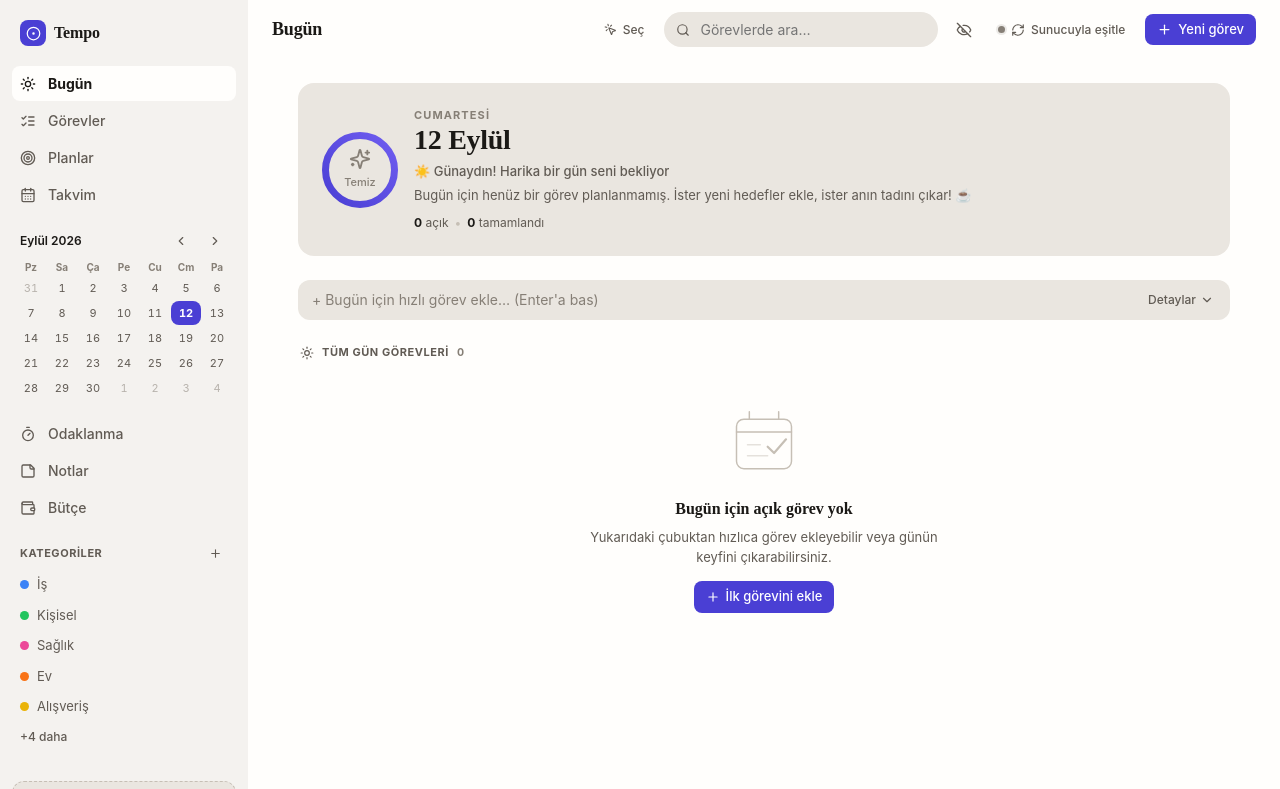
the budget page › puts the standing bills on their own tab, after the statements
Click the button "Bütçe": (124,508) [12,490,236,525]
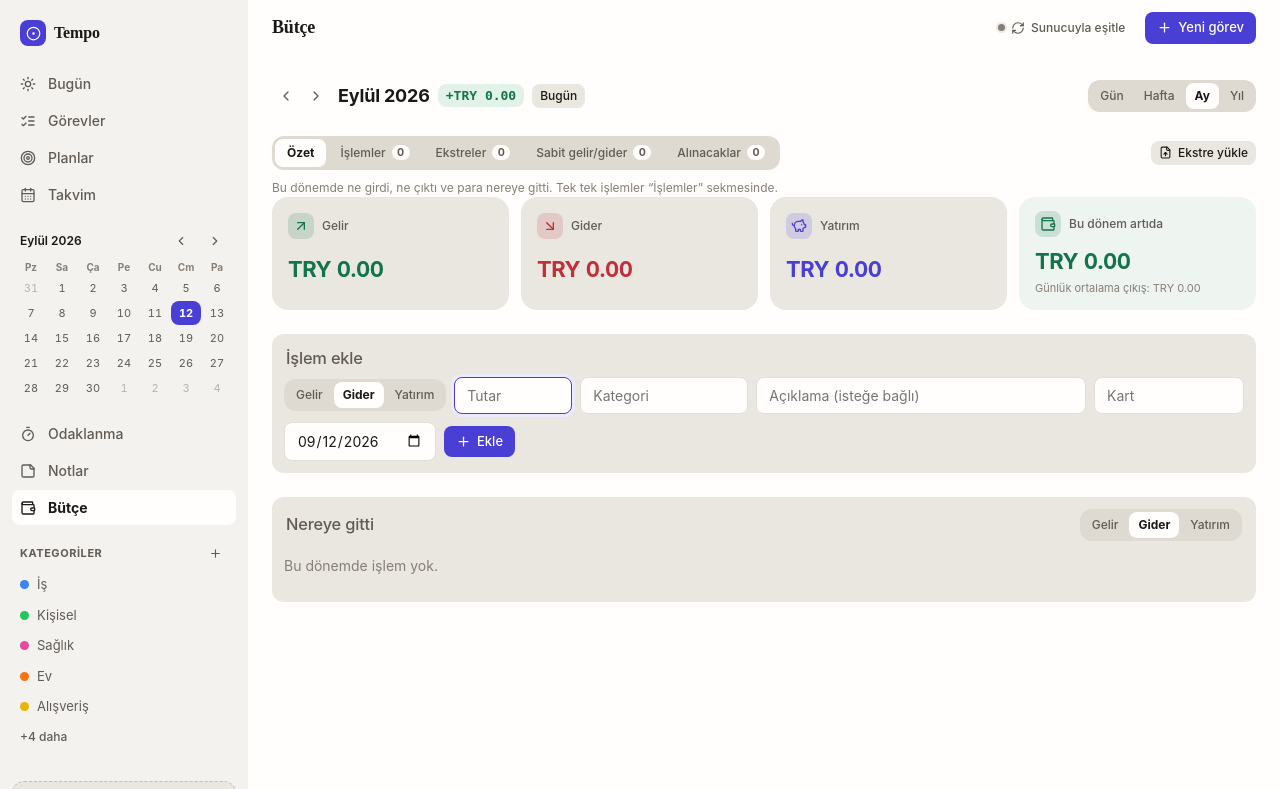
Click the tab "Sabit gelir/gider 0": (594,152) [524,138,663,166]
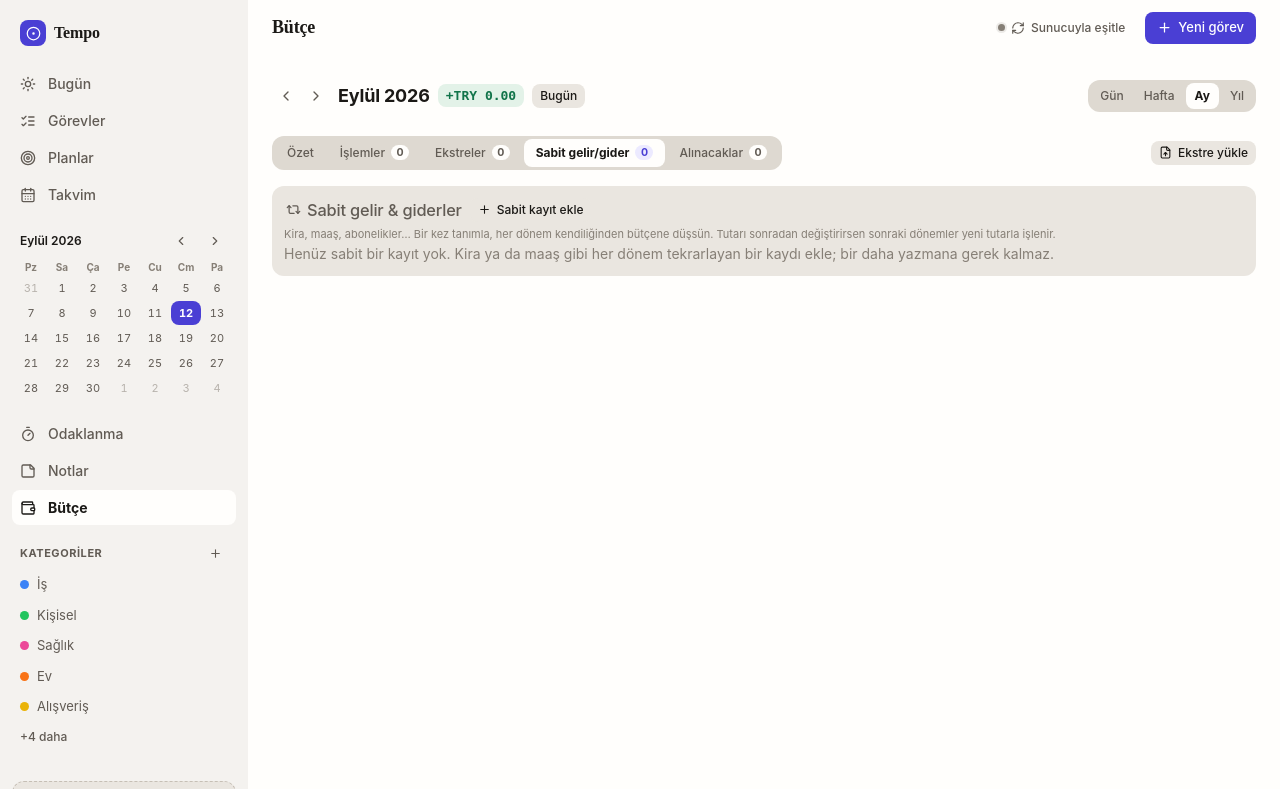
expect the heading "Sabit gelir & giderler" is shown: met, box [286,198,462,222]
expect the text "nereye gitti" is gone: met
